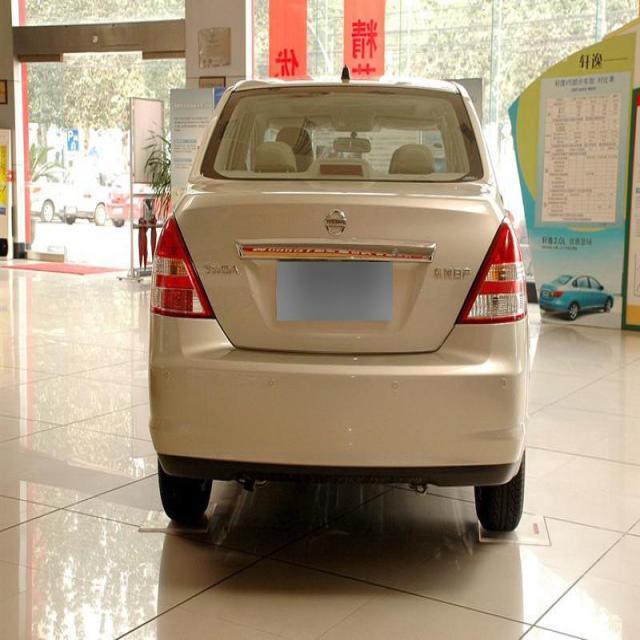back_glass: (205, 84, 478, 182)
back_left_side_light: (150, 211, 218, 322)
back_right_side_light: (456, 215, 529, 328)
rear_bumper: (146, 313, 532, 485)
wheel: (158, 465, 214, 526), (471, 485, 524, 534)
